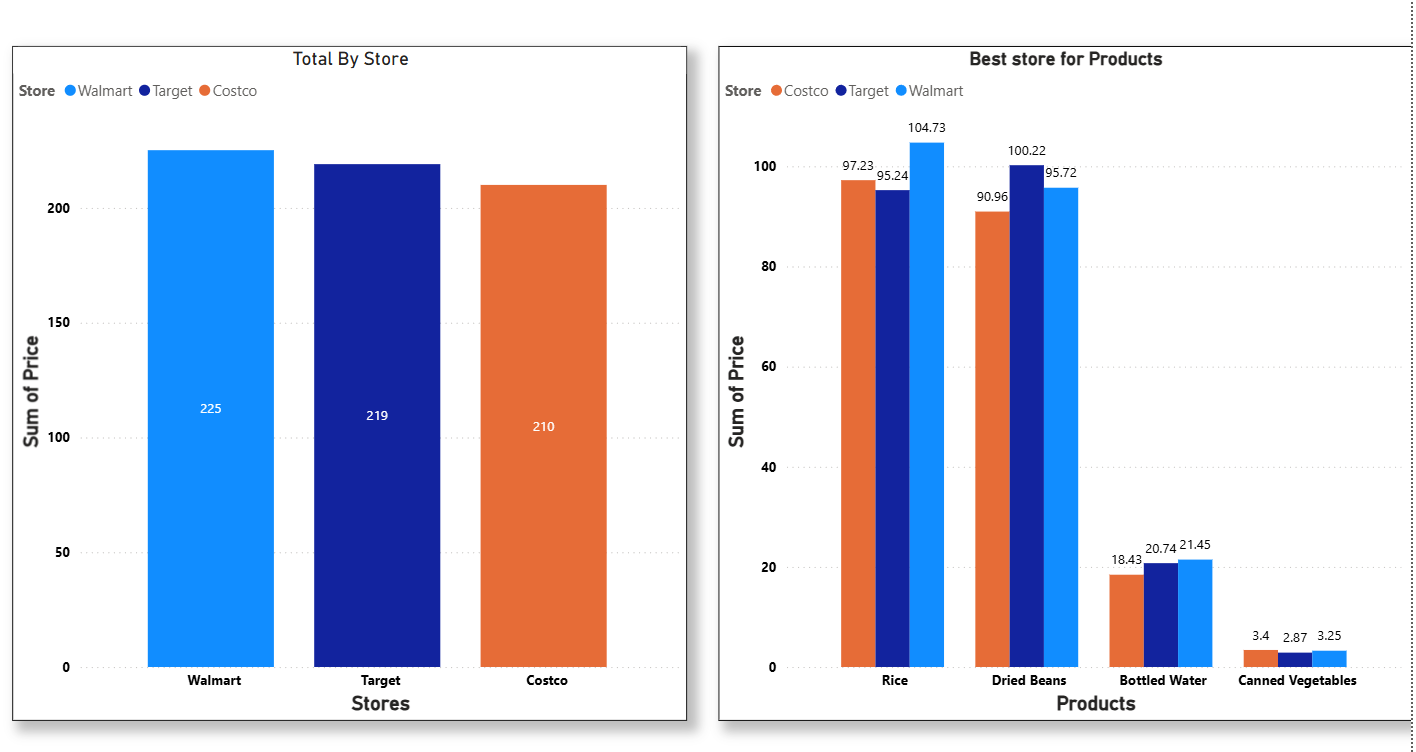

What the dashboard file says about the page in this screenshot:
{"tool":"powerbi","page":{"name":"Page 1","canvas":[1280,720],"ordinal":0},"visuals":[{"type":"columnChart","title":"Total By Store","fields":{"Category":["Sheet1 (2).Store"],"Y":["Sum(Sheet1 (2).Price)"],"Series":["Sheet1 (2).Store"]},"box":[15.1,76.8,610.6,610.6],"z":0},{"type":"clusteredColumnChart","title":"Best store for Products","fields":{"Category":["Sheet1 (2).Product"],"Series":["Sheet1 (2).Store"],"Y":["Sum(Sheet1 (2).Price)"]},"box":[653,76.8,627.1,610.6],"z":1000}]}

Visuals, with their boxes in screenshot pixels (x1, y1, x2, y2):
"Total By Store" columnChart: (9,44,686,721)
"Best store for Products" clusteredColumnChart: (716,44,1410,721)
